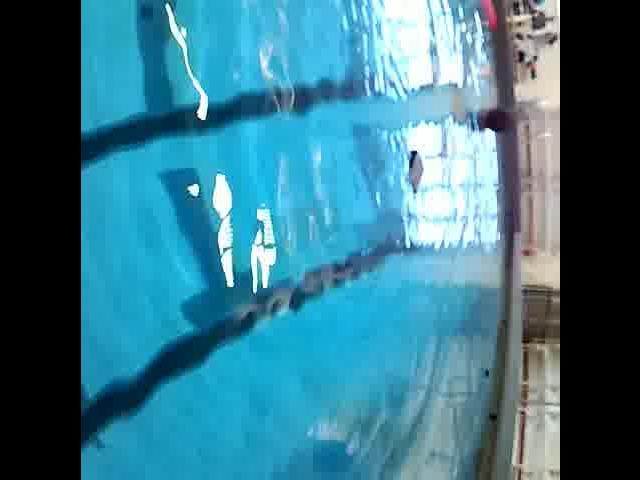CamMount: (398, 147, 426, 195)
